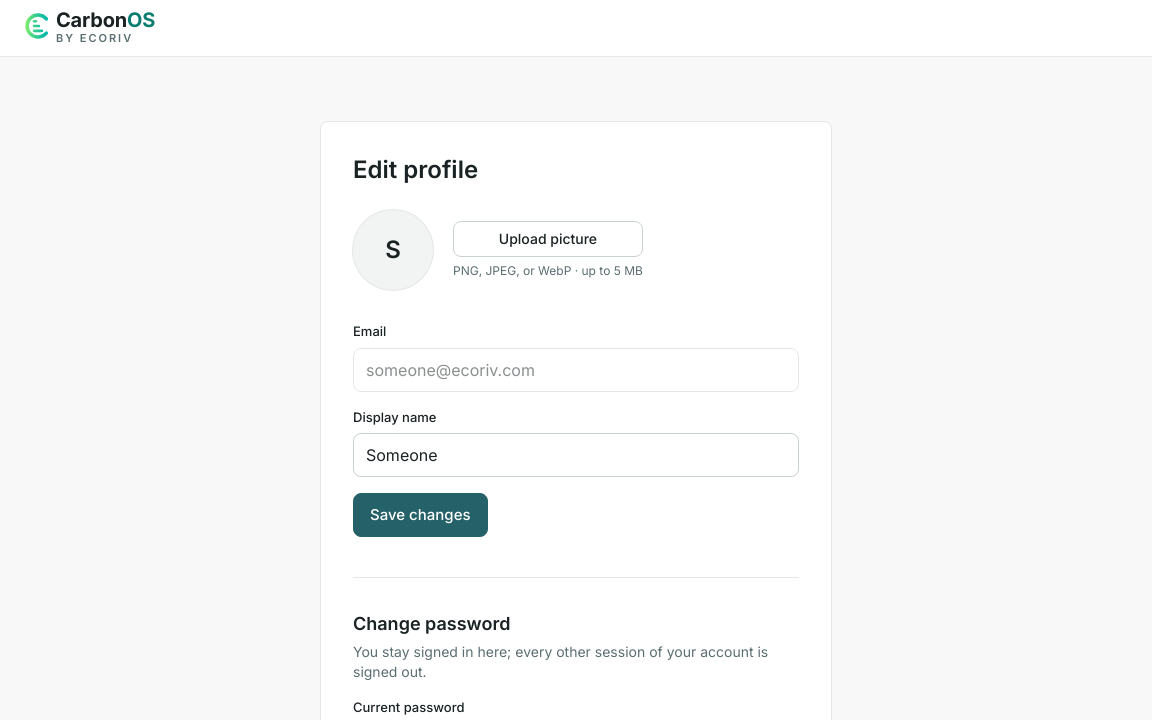
Test case: saves the display name
Replace the text in the field labelled "Display name" with "Renamed" at (576, 455), box left=353, top=433, right=799, bottom=477
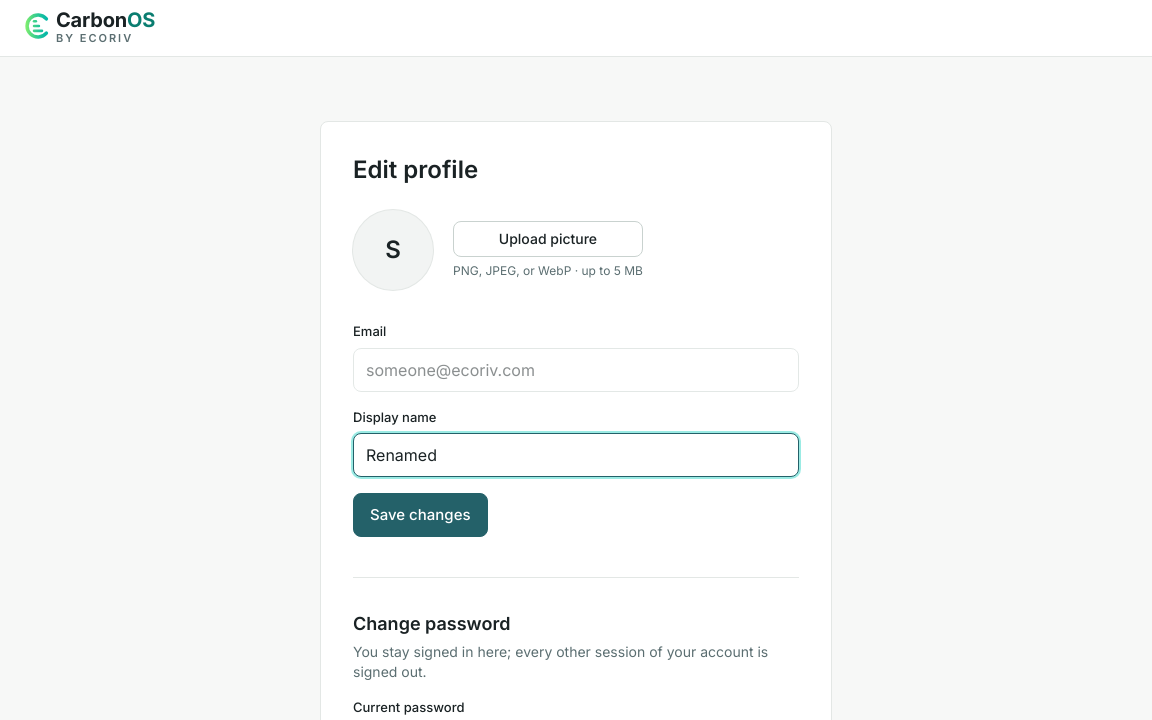
Click the button "Save changes" at (420, 515), box left=353, top=493, right=488, bottom=537
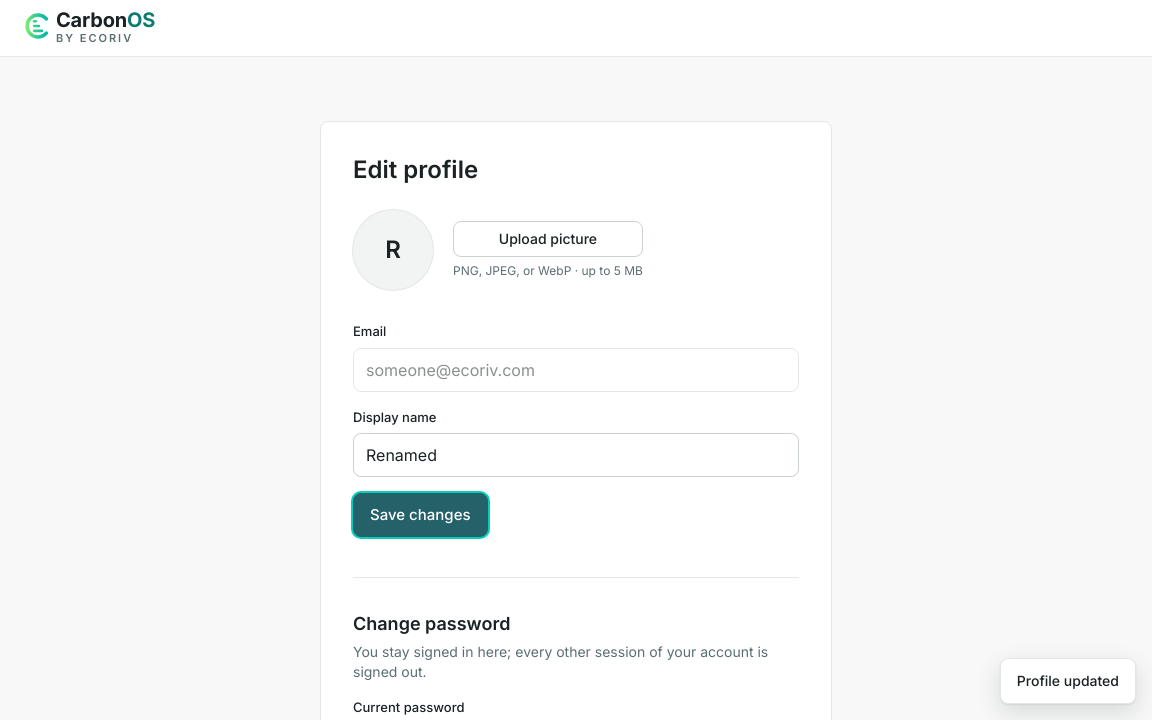
Check: the text "Profile updated" is shown, box left=1000, top=658, right=1136, bottom=704
